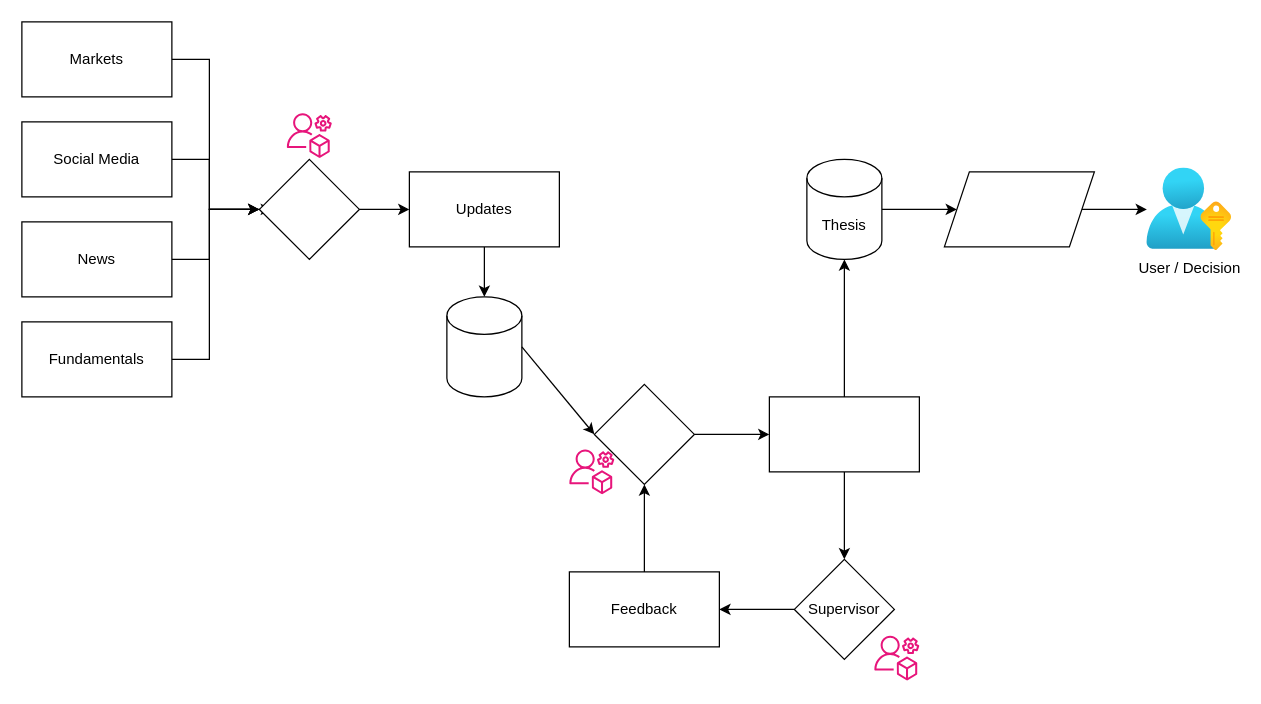
Image size: 1261x704. Some labels were removed from this diagram. Here are the shapes that lost their labels. From the top down, the box of each, then its label:
(258, 158, 359, 259): Watcher
(943, 171, 1094, 247): Trigger / Push
(446, 296, 522, 397): Info Storage
(593, 383, 694, 484): Analyst
(768, 396, 919, 472): Thesis Updates
